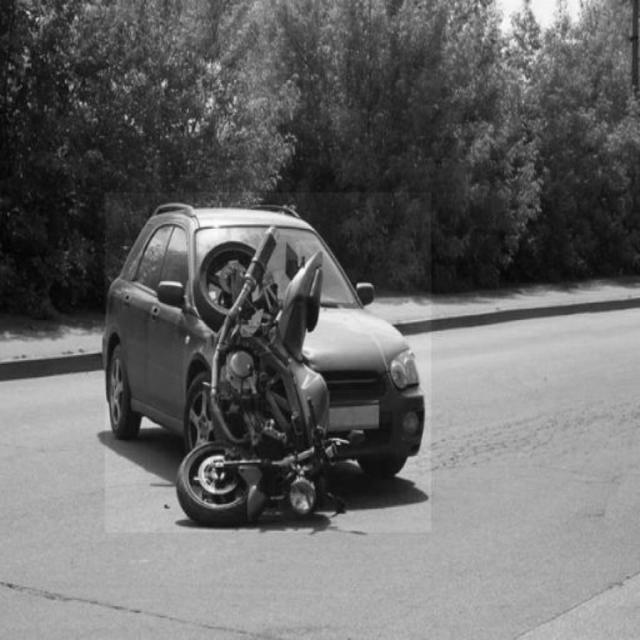accident: (105, 193, 431, 533)
